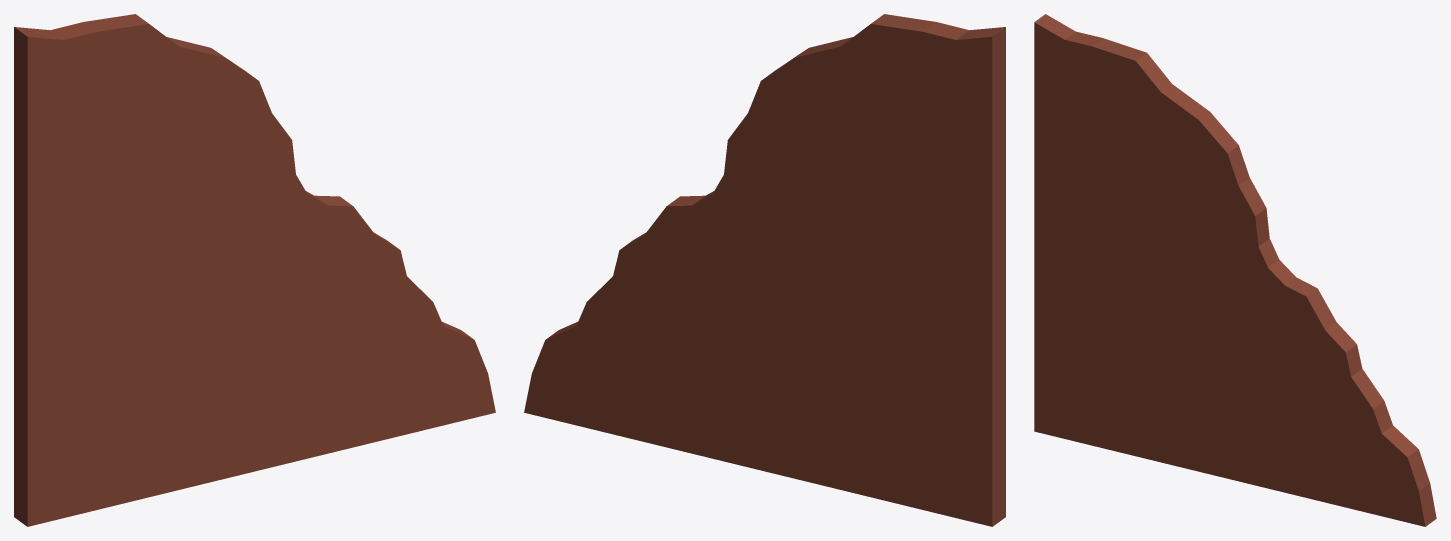
File: tile03.001.glb
The picture shows the model from 3 angles, left to right: view 1: azimuth 30°, elevation 25°; view 2: azimuth 150°, elevation 25°; view 3: azimuth 330°, elevation 25°; orthographic projection. The views are drawn at different scales.
Visible parts, largest first — view 1: 03.001; view 2: 03.001; view 3: 03.001.
Boxes of the visible parts, x1=… form: 03.001: x1=14, y1=14, x2=495, y2=526; 03.001: x1=524, y1=14, x2=1005, y2=526; 03.001: x1=1034, y1=14, x2=1436, y2=526.
Size of the model in its own units: 2 by 2 by 0.1.
Materials: 1 (1 with a texture image).
